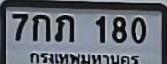0: (131, 16, 145, 43)
1: (95, 15, 104, 42)
7: (11, 13, 27, 40)
8: (111, 16, 126, 42)
A01: (32, 14, 49, 41)
A32: (54, 14, 73, 41)
BKK: (29, 51, 140, 64)
